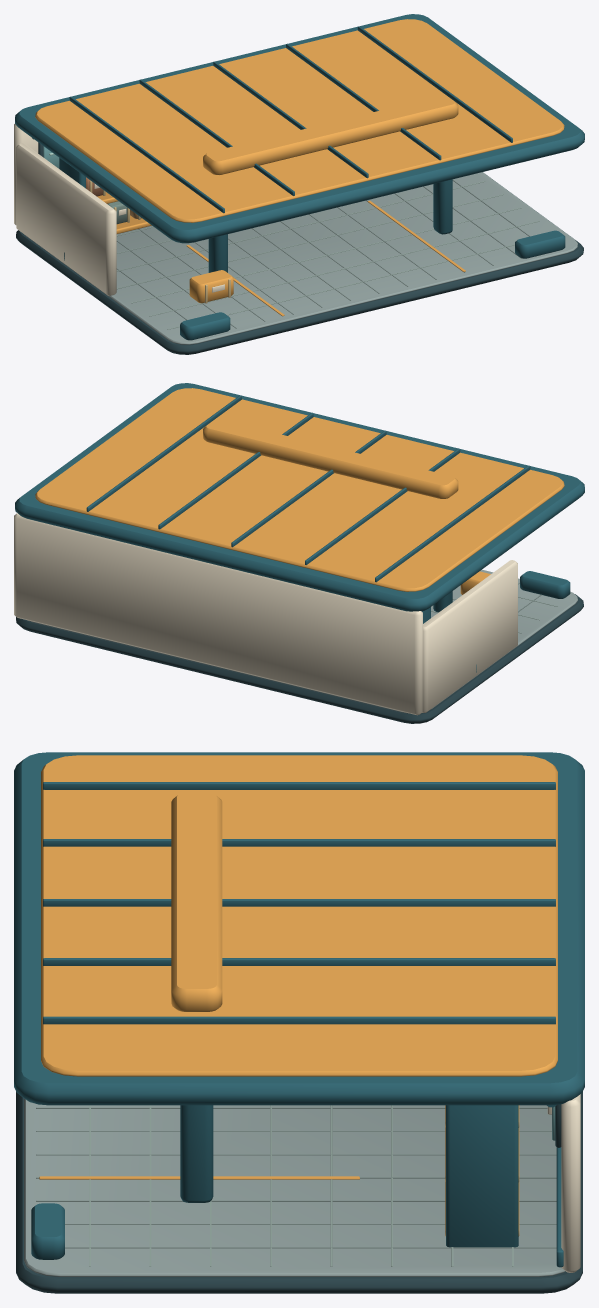
The model's file is logistics.glb.
3 renders of one model, top to bottom at view 1: azimuth 30°, elevation 25°; view 2: azimuth 150°, elevation 25°; view 3: azimuth 270°, elevation 25°, orthographic. The views are drawn at different scales.
Parts seen in each view (by area): view 1: Roof, Room; view 2: Roof, Room; view 3: Roof, Room.
Part boxes in pixels (<box>): Roof: <box>15,14,584,243</box>; Room: <box>14,95,583,354</box>; Roof: <box>15,383,584,611</box>; Room: <box>14,419,583,723</box>; Roof: <box>14,752,584,1105</box>; Room: <box>16,792,582,1293</box>.
Size of the model in its own units: 11.5 by 3.73 by 8.18.
